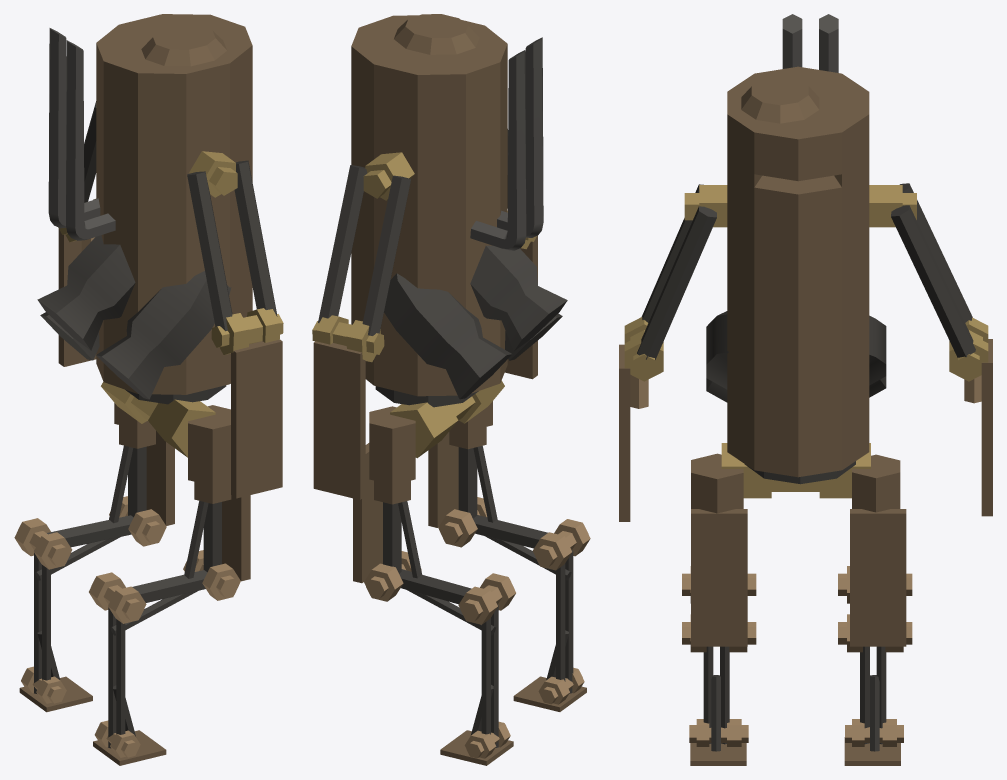
File: PLayer2.0.fbx
3 views of the same model, side by side, from view 1: azimuth 30°, elevation 25°; view 2: azimuth 150°, elevation 25°; view 3: azimuth 270°, elevation 25° (orthographic). The views are drawn at different scales.
Visible parts, largest first — view 1: polySurface17, pCylinder33, polySurface21, polySurface4, polySurface20, polySurface2, polySurface19, polySurface22, pasted__pCylinder3, polySurface24, pCylinder3, group4_pasted__pCylinder10 (+18 smaller); view 2: polySurface17, pCube6, polySurface2, polySurface16, polySurface20, polySurface4, polySurface22, polySurface19, pasted__pCylinder11, pCylinder12, polySurface24, group4_pasted__pCylinder10 (+17 smaller); view 3: polySurface17, polySurface4, polySurface2, pCylinder33, pCube6, pCylinder12, pCylinder3, polySurface23, polySurface24, pCylinder31, pCylinder32, polySurface21 (+12 smaller).
Boxes of the visible parts, x1=… form: polySurface17: x1=96, y1=14, x2=252, y2=394; pCylinder33: x1=211, y1=308, x2=283, y2=498; polySurface21: x1=96, y1=271, x2=231, y2=399; polySurface4: x1=188, y1=405, x2=250, y2=581; polySurface20: x1=37, y1=235, x2=135, y2=350; polySurface2: x1=114, y1=403, x2=174, y2=525; polySurface19: x1=66, y1=40, x2=115, y2=240; polySurface22: x1=48, y1=28, x2=100, y2=228; pasted__pCylinder3: x1=187, y1=171, x2=232, y2=331; polySurface24: x1=101, y1=382, x2=215, y2=457; pCylinder3: x1=234, y1=160, x2=277, y2=316; group4_pasted__pCylinder10: x1=108, y1=607, x2=125, y2=748; polySurface17: x1=351, y1=14, x2=507, y2=396; pCube6: x1=312, y1=315, x2=384, y2=499; polySurface2: x1=353, y1=406, x2=415, y2=583; polySurface16: x1=384, y1=273, x2=512, y2=399; polySurface20: x1=470, y1=245, x2=567, y2=350; polySurface4: x1=428, y1=401, x2=492, y2=527; polySurface22: x1=470, y1=50, x2=526, y2=250; polySurface19: x1=497, y1=37, x2=543, y2=237; pasted__pCylinder11: x1=362, y1=175, x2=411, y2=335; pCylinder12: x1=318, y1=165, x2=367, y2=322; polySurface24: x1=390, y1=380, x2=504, y2=458; group4_pasted__pCylinder10: x1=556, y1=550, x2=573, y2=693; polySurface17: x1=727, y1=66, x2=869, y2=477; polySurface4: x1=691, y1=453, x2=747, y2=646; polySurface2: x1=850, y1=454, x2=906, y2=646; pCylinder33: x1=619, y1=317, x2=663, y2=521; pCube6: x1=949, y1=317, x2=992, y2=516; pCylinder12: x1=891, y1=205, x2=975, y2=357; pCylinder3: x1=637, y1=206, x2=716, y2=359; polySurface23: x1=684, y1=185, x2=916, y2=227; polySurface24: x1=721, y1=443, x2=870, y2=498; pCylinder31: x1=689, y1=719, x2=748, y2=765; pCylinder32: x1=844, y1=719, x2=903, y2=765; polySurface21: x1=706, y1=311, x2=728, y2=402.
Bounding box in the file's own units: 2.14 × 7.09 × 3.31.
